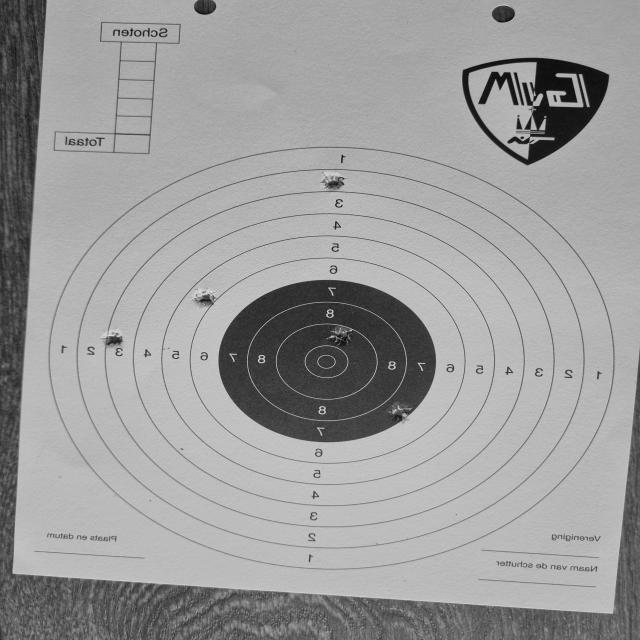3: (320, 172, 347, 194), (99, 332, 123, 347)
5: (194, 291, 218, 307)
7: (388, 404, 413, 424)
9: (327, 325, 354, 346)
Target: (47, 148, 616, 571)
black_contour: (218, 280, 437, 442)
